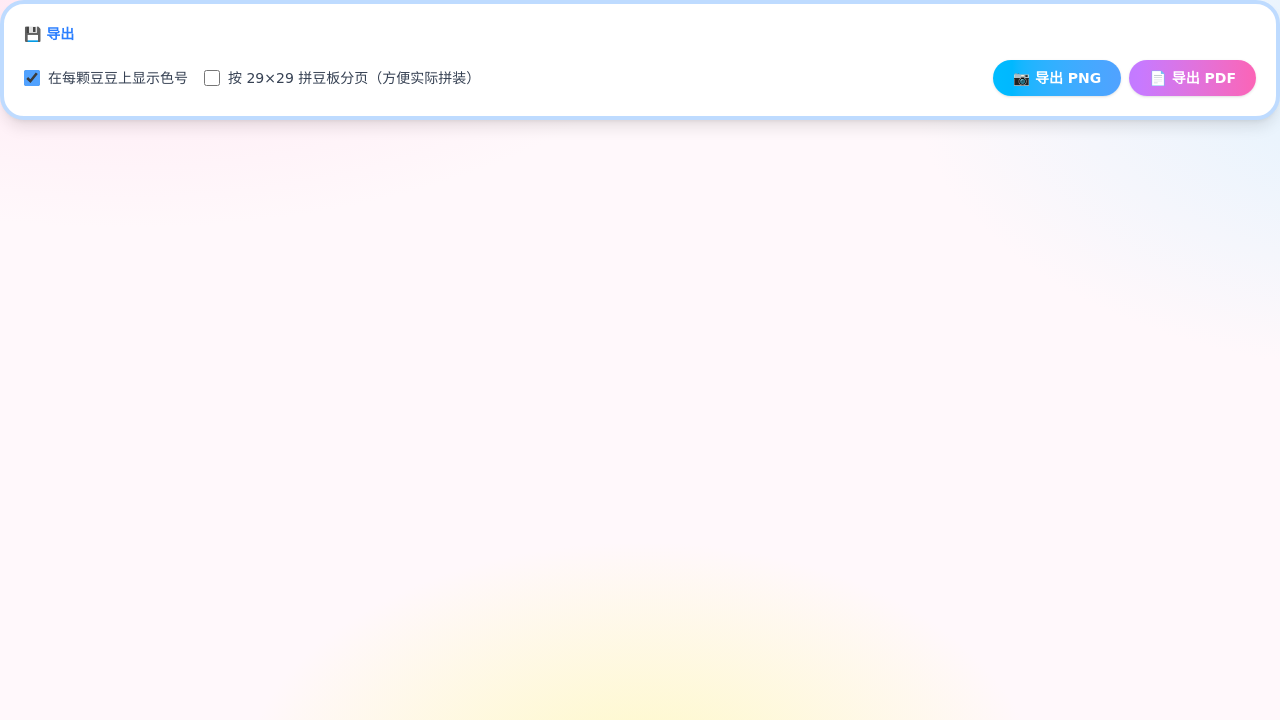
Scenario: ExportPanel › the cell-size slider is hidden unless split-by-pegboard is checked
// Split-by-pegboard is the SECOND checkbox (show-codes is first)
Click the checkbox labelled "按 29×29 拼豆板分页（方便实际拼装）" at (212, 78), box [204, 70, 220, 86]
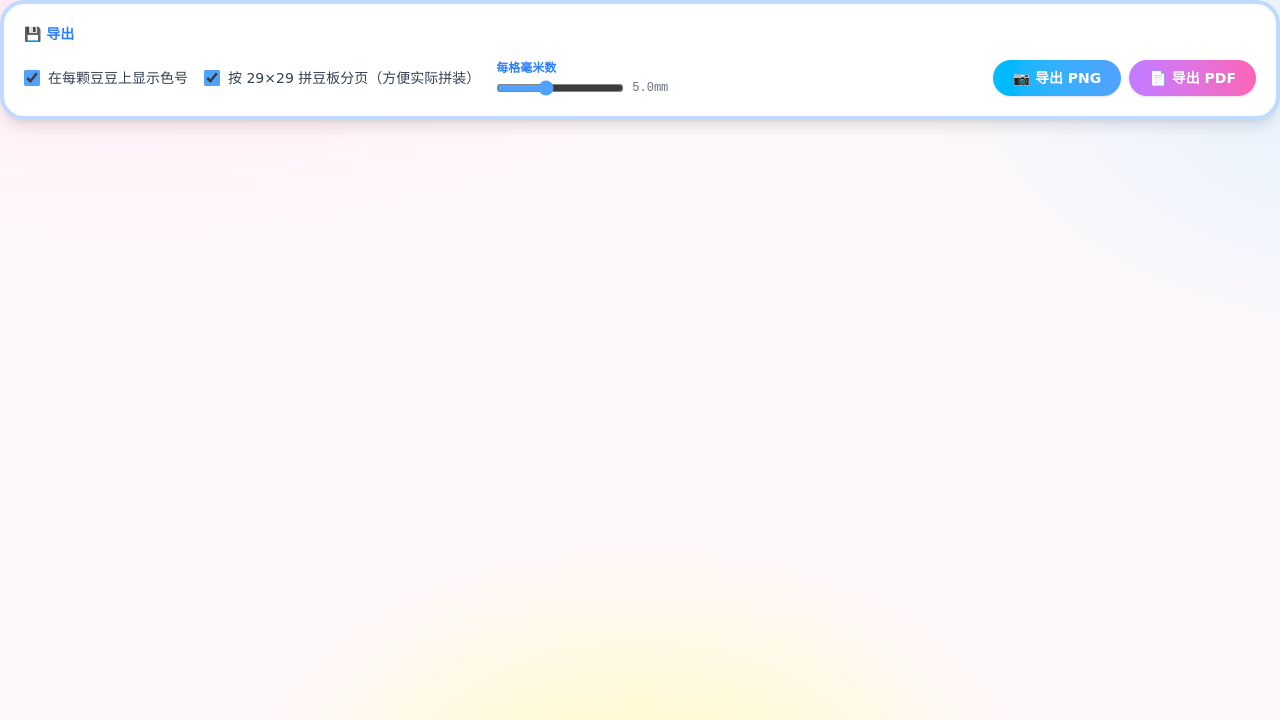
Expected: the text "每格毫米数" is shown, [496, 61, 556, 75]
